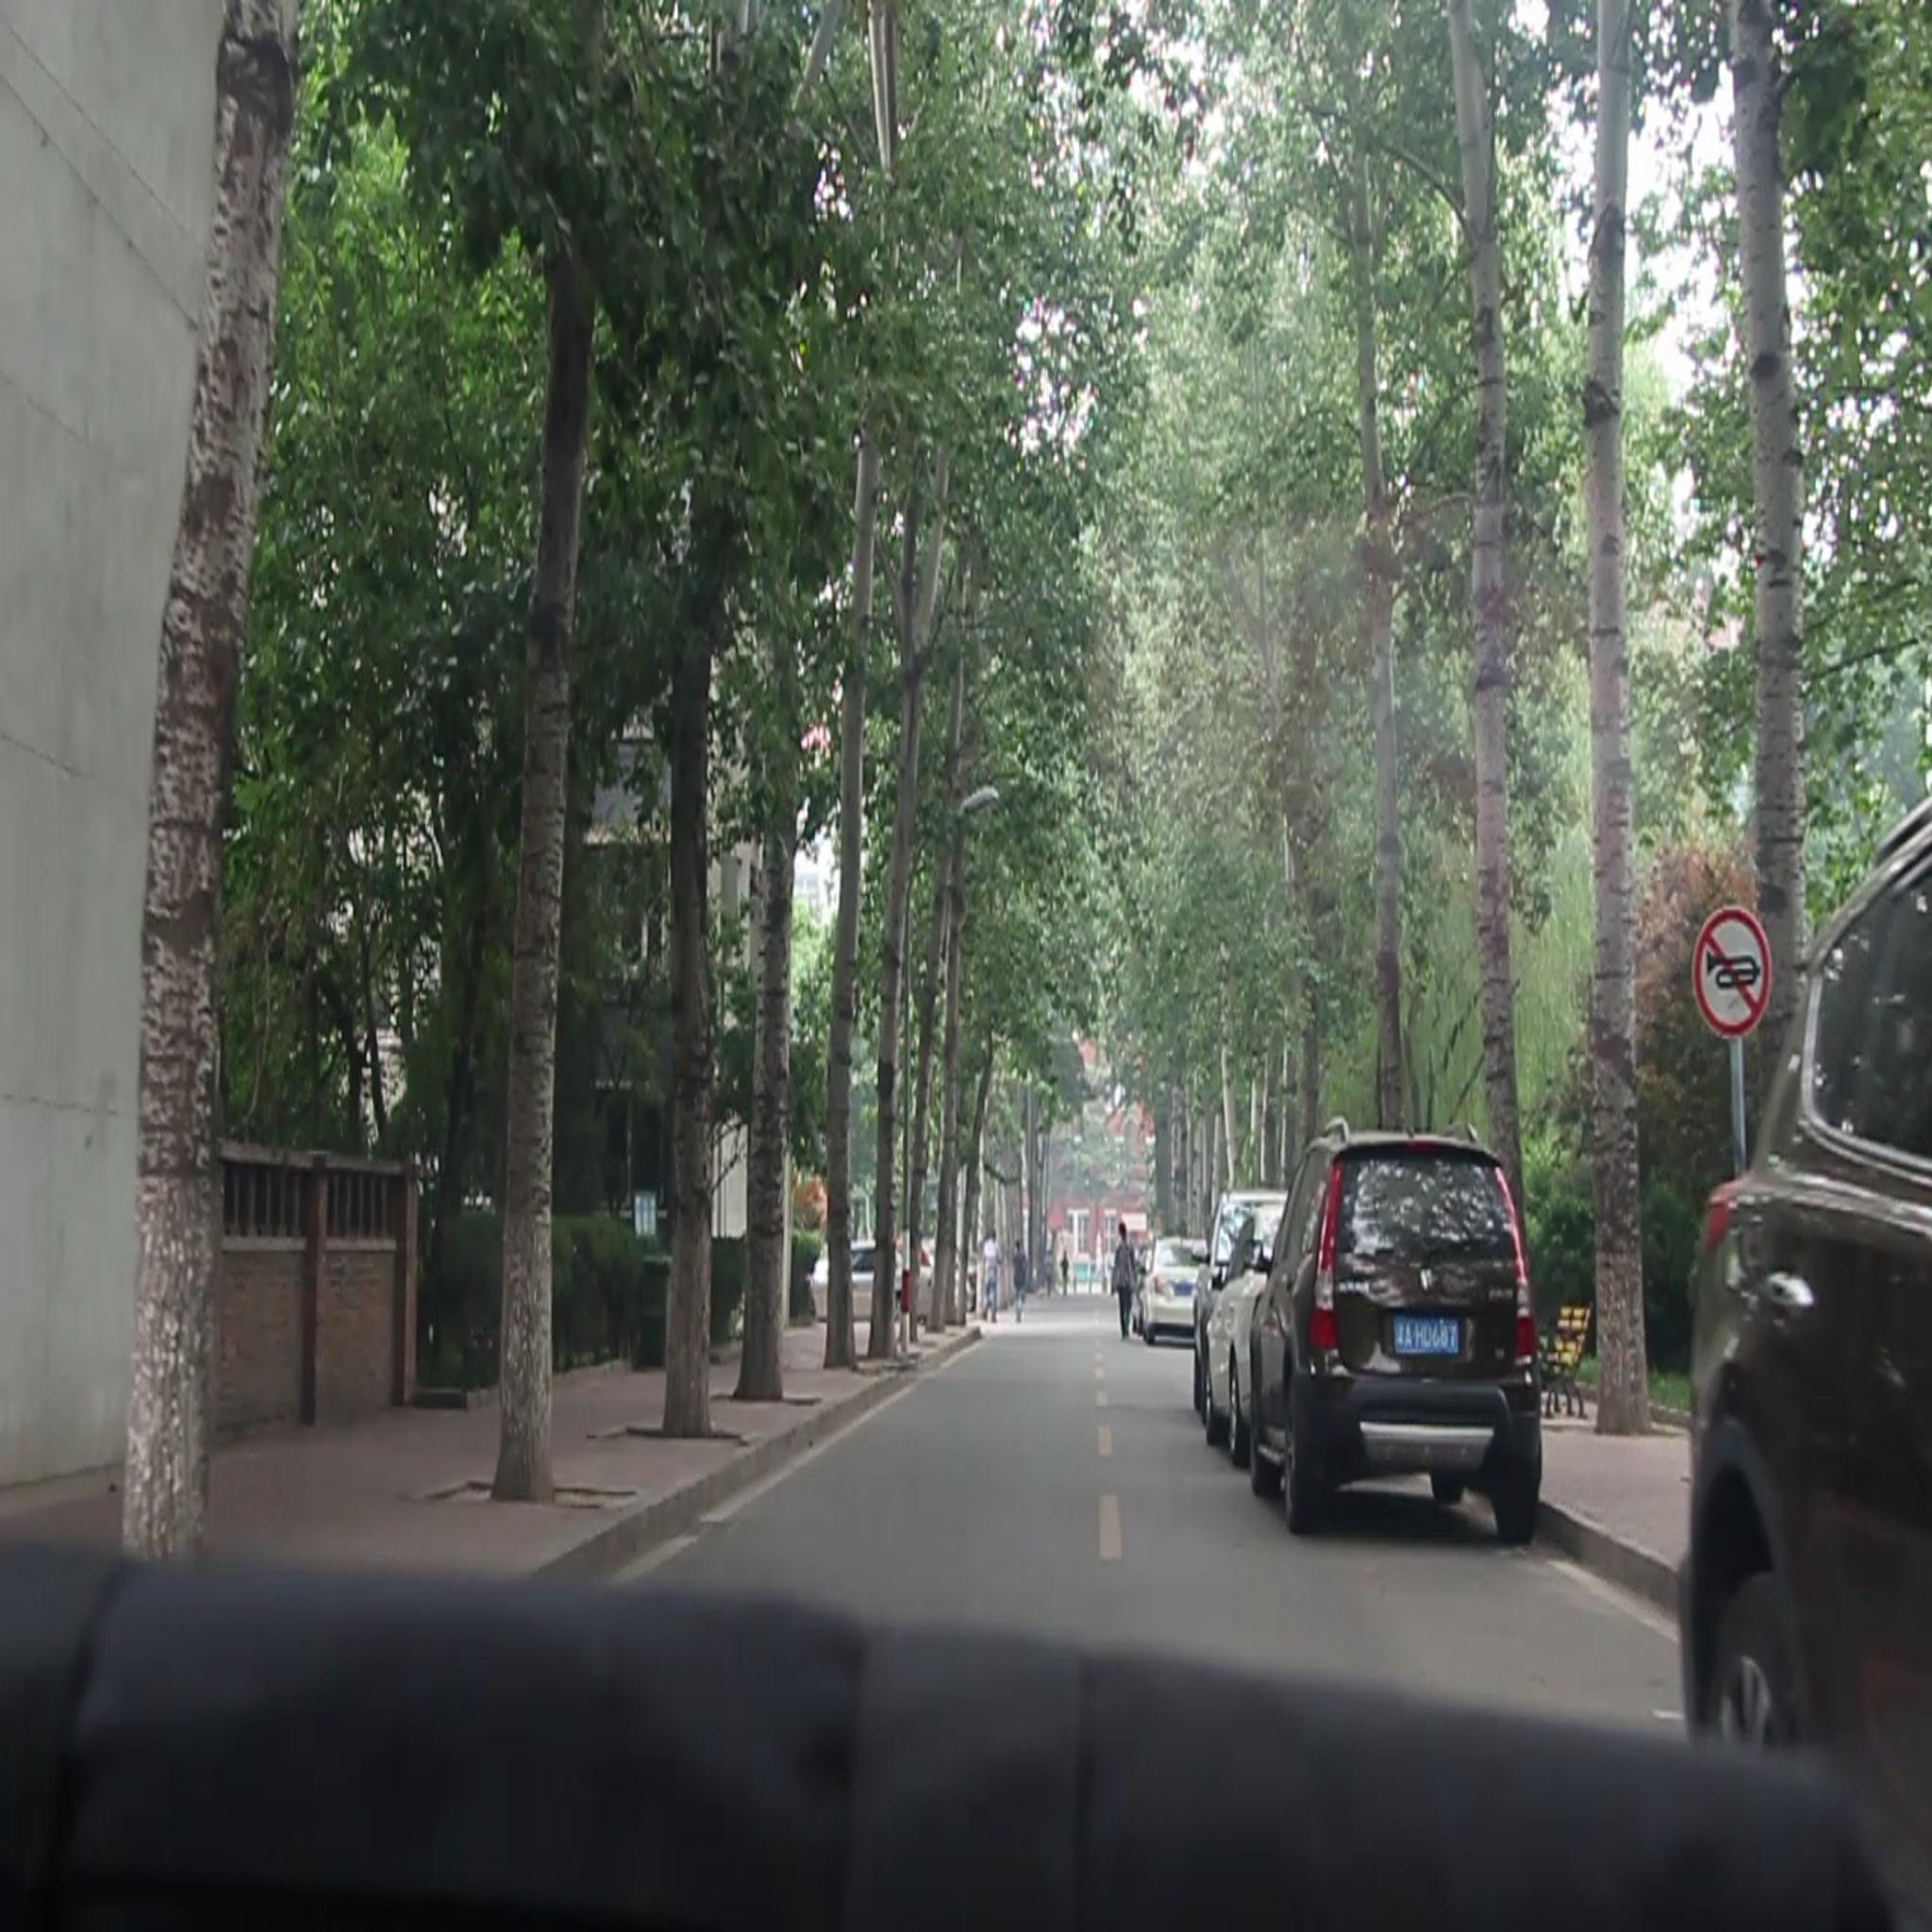p11: (1697, 920, 1780, 1030)
